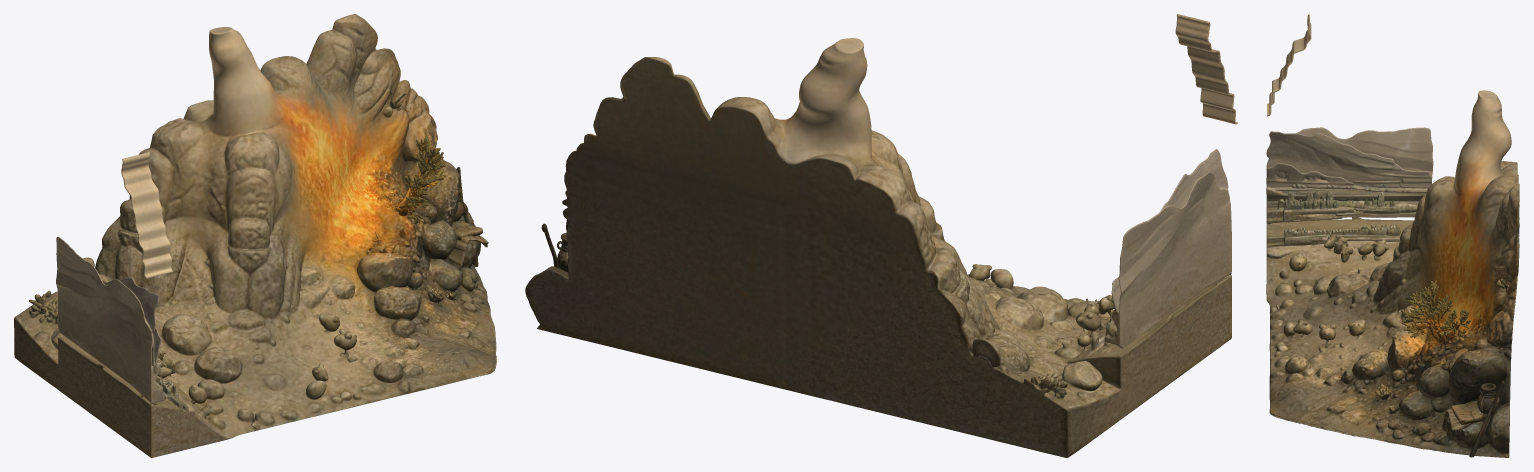
File: exodus-5.glb
3 renders of one model, left to right at view 1: azimuth 30°, elevation 25°; view 2: azimuth 150°, elevation 25°; view 3: azimuth 270°, elevation 25°, orthographic. The views are drawn at different scales.
Parts seen in each view (by area): view 1: tripo_node_ae6ac79c-ac5d-42c3-b596-d72ebe17403c; view 2: tripo_node_ae6ac79c-ac5d-42c3-b596-d72ebe17403c; view 3: tripo_node_ae6ac79c-ac5d-42c3-b596-d72ebe17403c.
Part boxes in pixels (x1,y1,x2,y2): tripo_node_ae6ac79c-ac5d-42c3-b596-d72ebe17403c: (14, 14, 496, 457); tripo_node_ae6ac79c-ac5d-42c3-b596-d72ebe17403c: (525, 14, 1237, 457); tripo_node_ae6ac79c-ac5d-42c3-b596-d72ebe17403c: (1266, 14, 1519, 457).
Size of the model in its own units: 0.9783 by 0.5949 by 0.5295.
1 material, 1 textured.
